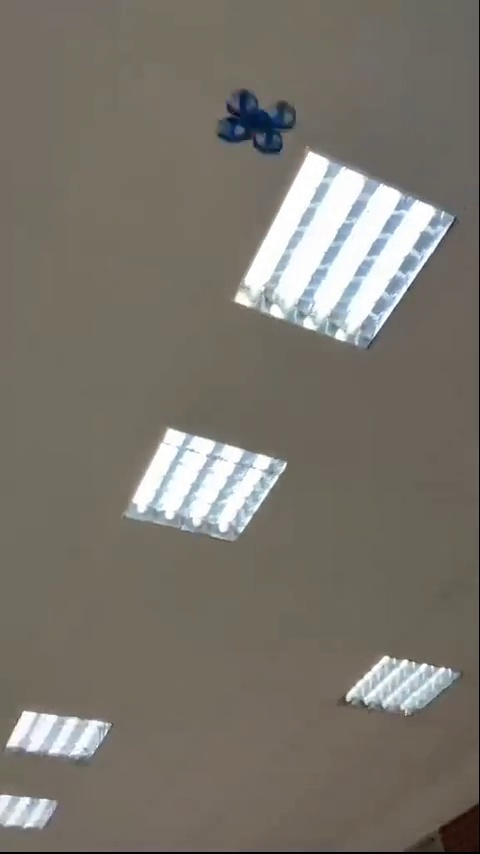drone: (218, 87, 297, 147)
